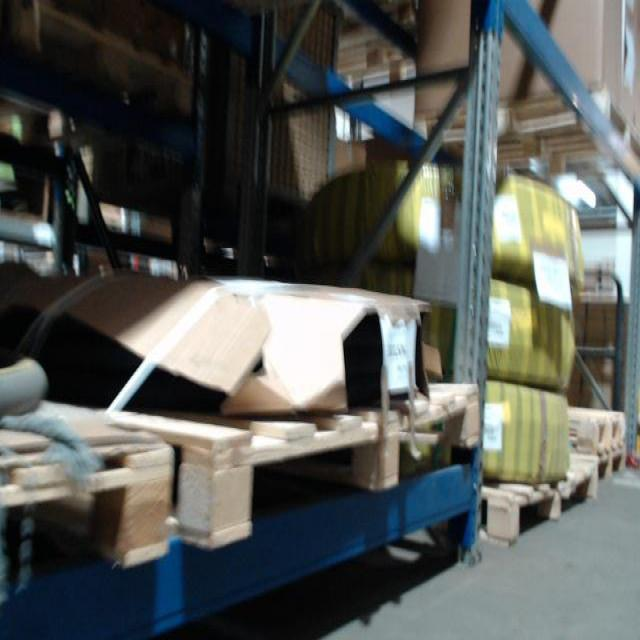pallet: (40, 366, 485, 549), (3, 391, 180, 577), (397, 81, 638, 191), (13, 4, 193, 120), (479, 444, 604, 548), (558, 400, 630, 447), (590, 439, 634, 483)
stillage: (214, 2, 334, 202)
